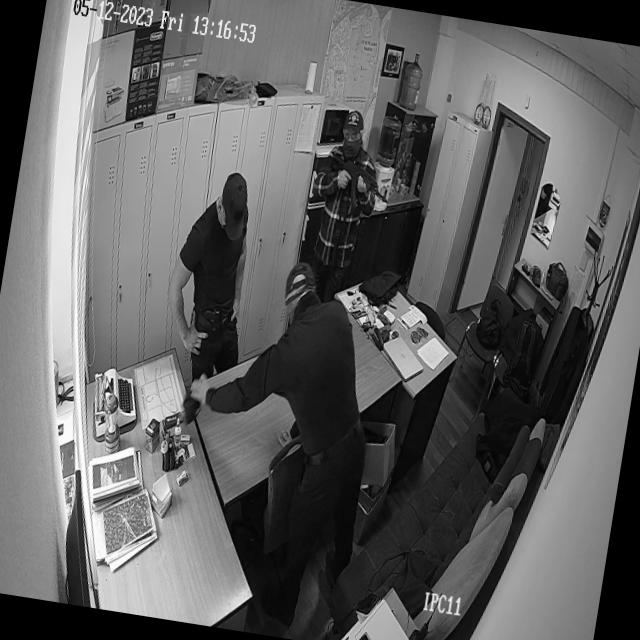gun: (321, 151, 394, 224)
person: (169, 248, 398, 544), (158, 164, 268, 366)
person with a gun: (300, 103, 403, 273)
